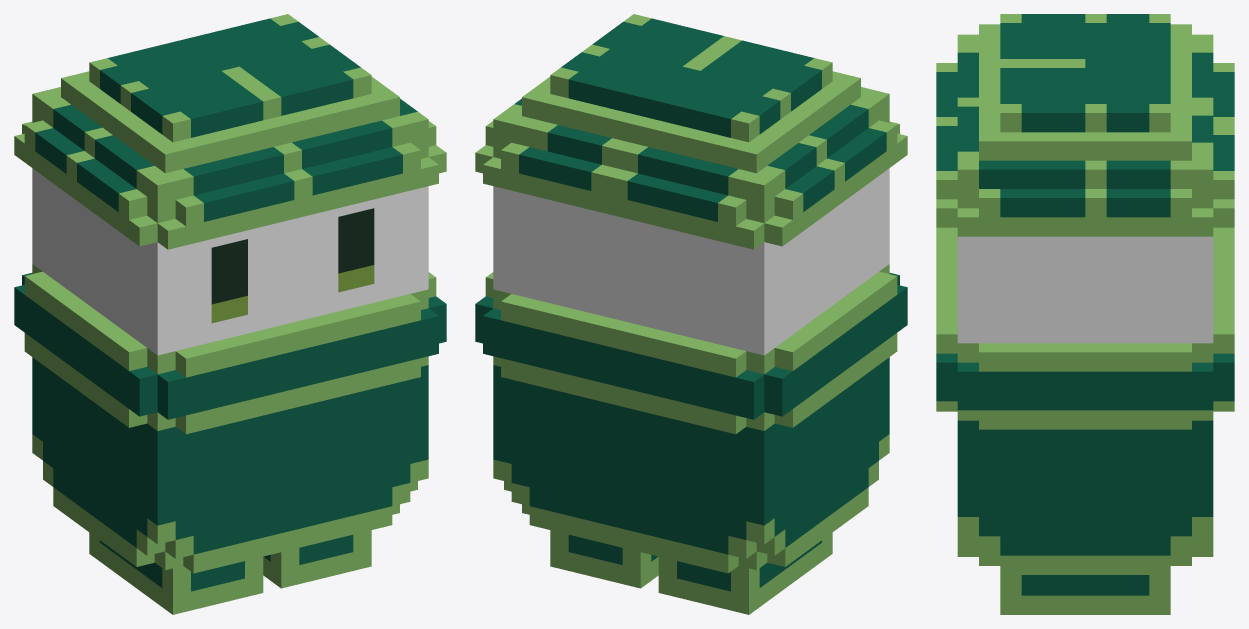
Rendered from p2_dizzy.gltf.
3 renders of one model, left to right at view 1: azimuth 30°, elevation 25°; view 2: azimuth 150°, elevation 25°; view 3: azimuth 270°, elevation 25°, orthographic. The views are drawn at different scales.
Parts seen in each view (by area): view 1: Yup2Zup.001; view 2: Yup2Zup.001; view 3: Yup2Zup.001.
Boxes of the visible parts, <box> form: Yup2Zup.001: <box>14,14,446,614</box>; Yup2Zup.001: <box>475,14,907,614</box>; Yup2Zup.001: <box>936,14,1234,614</box>.
Bounding box in the file's own units: 1.7 × 2.6 × 1.4.
1 material, 1 textured.
